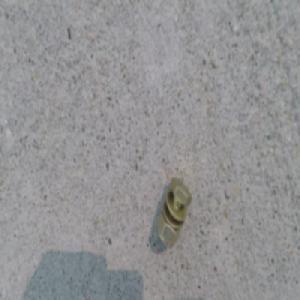BoltNutSet: (155, 178, 192, 249)
